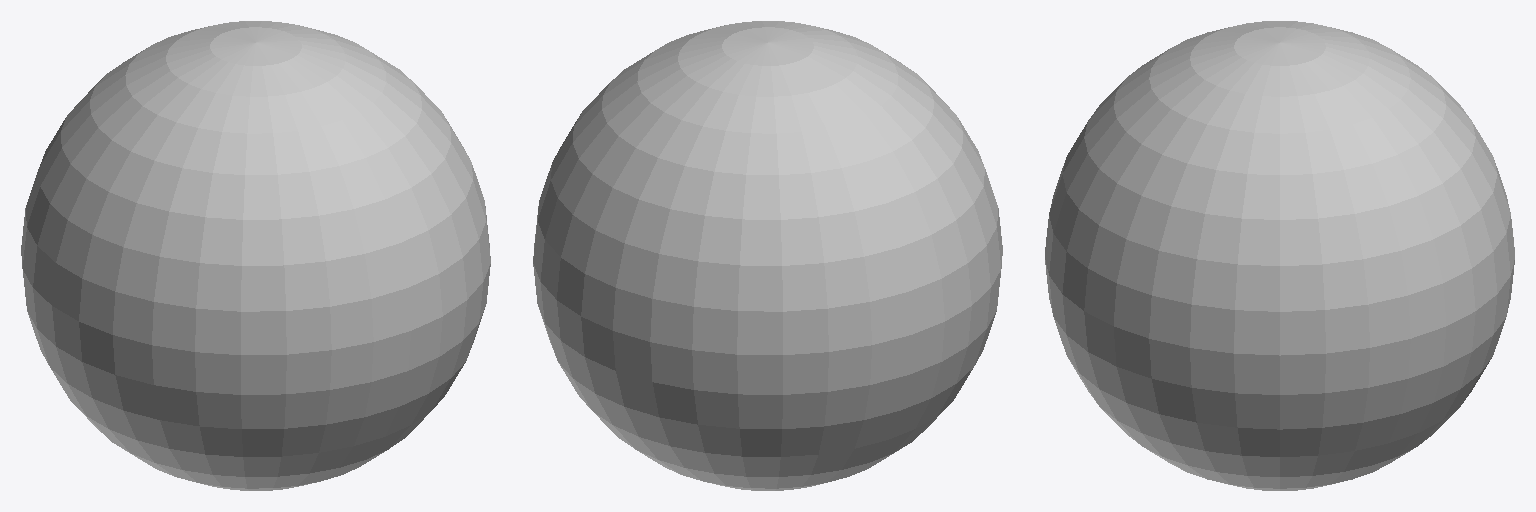
Rendered from Skybox.obj.
3 views of the same model, side by side, from view 1: azimuth 30°, elevation 25°; view 2: azimuth 150°, elevation 25°; view 3: azimuth 270°, elevation 25° (orthographic).
Visible parts, largest first — view 1: Sphere001; view 2: Sphere001; view 3: Sphere001.
Boxes of the visible parts, x1=… form: Sphere001: x1=21, y1=21, x2=490, y2=490; Sphere001: x1=533, y1=21, x2=1002, y2=490; Sphere001: x1=1045, y1=21, x2=1514, y2=490.
Size of the model in its own units: 114 by 114 by 114.